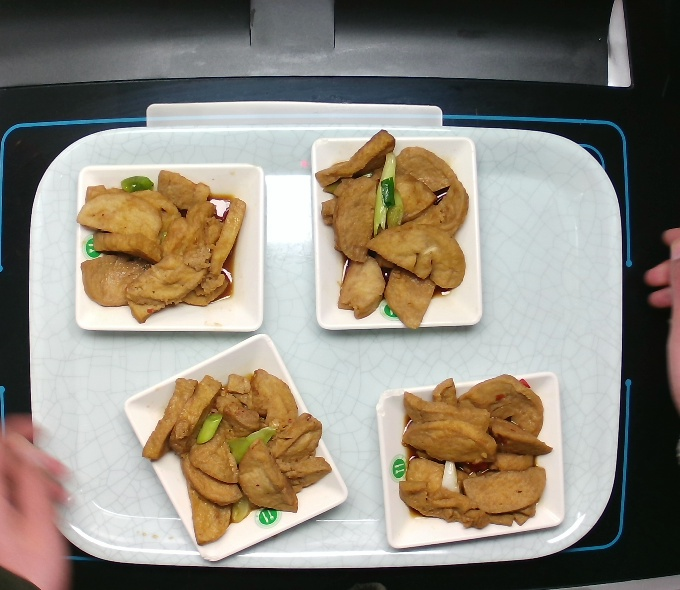wcq-SuJi: (140, 367, 330, 550), (311, 126, 473, 332), (75, 154, 256, 330), (393, 363, 554, 541)
